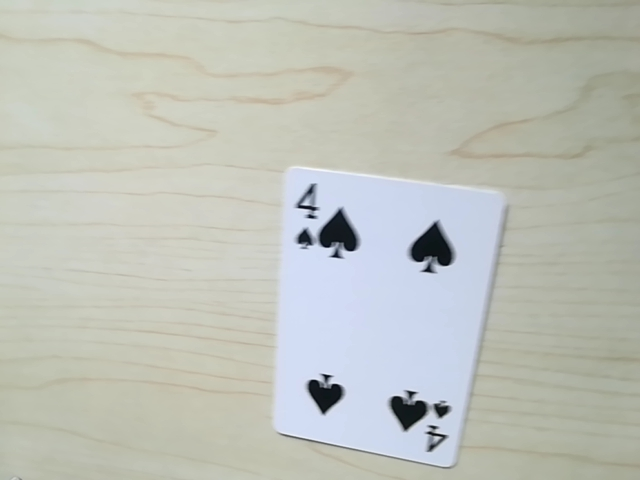ht 4: (289, 171, 333, 259), (412, 393, 455, 462)
